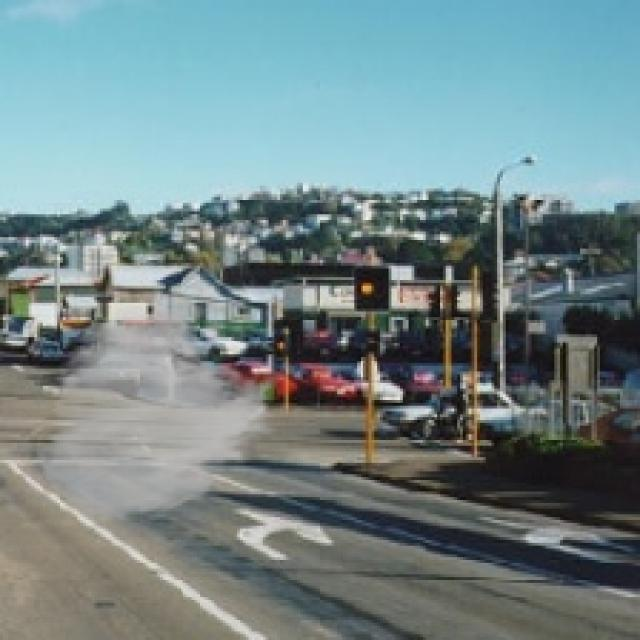smoke: (34, 303, 286, 523)
